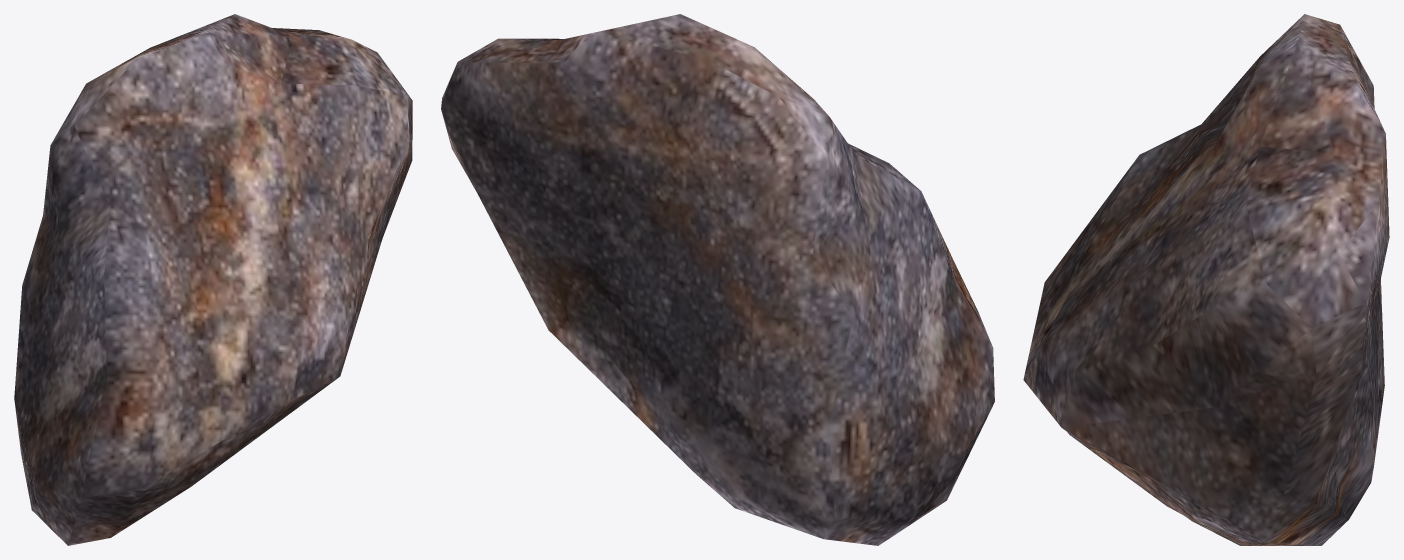
File: rock.glb
3 views of the same model, side by side, from view 1: azimuth 30°, elevation 25°; view 2: azimuth 150°, elevation 25°; view 3: azimuth 270°, elevation 25° (orthographic). The views are drawn at different scales.
Visible parts, largest first — view 1: rock062_lod4; view 2: rock062_lod4; view 3: rock062_lod4.
Part boxes in pixels (x1,y1,x2,y2): rock062_lod4: (14,14,412,545); rock062_lod4: (441,14,994,545); rock062_lod4: (1023,14,1389,545).
Size of the model in its own units: 1 by 1.02 by 0.5905.
1 material, 1 textured.
